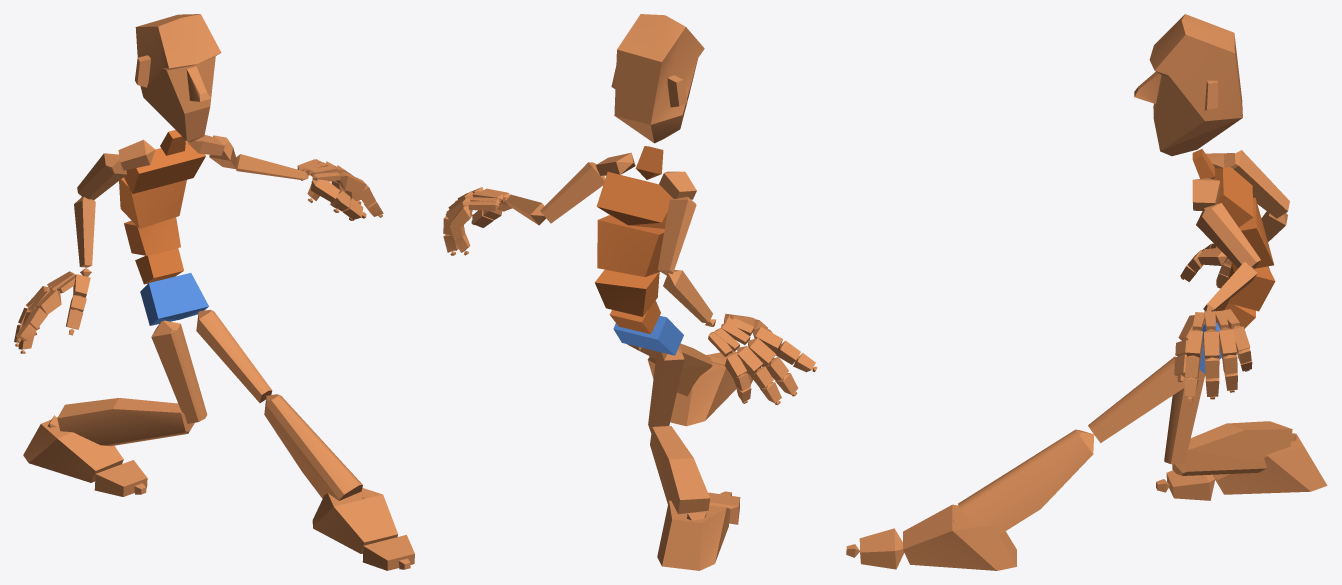
3 views of the same model, side by side, from view 1: azimuth 30°, elevation 25°; view 2: azimuth 150°, elevation 25°; view 3: azimuth 270°, elevation 25° (orthographic). The views are drawn at different scales.
Visible parts, largest first — view 1: BOPED_Head, BOPED_R_leg, BOPED_L_leg, BOPED_R_foot01, BOPED_R_foot, BOPED_R_legup, Bone01, BOPED_L_legup, Bone04, Bone05, Bone03, BOPED_R_arm_upper (+7 smaller); view 2: BOPED_Head, BOPED_R_foot, BOPED_R_leg, Bone04, Bone05, BOPED_R_foot01, Bone03, BOPED_R_legup, BOPED_R_arm_upper, BOPED_L_arm_upper, Bone01, BOPED_R_arm_fore (+7 smaller); view 3: BOPED_Head, BOPED_L_leg, BOPED_R_foot01, BOPED_R_leg, BOPED_R_foot, BOPED_L_legup, BOPED_L_arm_upper, BOPED_R_legup, Bone05, BOPED_R_arm_upper, BOPED_R_foot_toe04, BOPED_R_foot_toe01 (+4 smaller).
Part boxes in pixels (bbox=[...]): BOPED_Head: bbox=[135, 14, 221, 142]; BOPED_R_leg: bbox=[57, 398, 194, 446]; BOPED_L_leg: bbox=[264, 394, 362, 500]; BOPED_R_foot01: bbox=[312, 488, 398, 553]; BOPED_R_foot: bbox=[23, 417, 123, 482]; BOPED_R_legup: bbox=[151, 320, 207, 423]; Bone01: bbox=[140, 273, 208, 325]; BOPED_L_legup: bbox=[196, 309, 272, 402]; Bone04: bbox=[119, 177, 186, 228]; Bone05: bbox=[124, 141, 205, 193]; Bone03: bbox=[124, 217, 180, 255]; BOPED_R_arm_upper: bbox=[77, 153, 126, 200]; BOPED_Head: bbox=[611, 14, 704, 143]; BOPED_R_foot: bbox=[657, 500, 730, 570]; BOPED_R_leg: bbox=[650, 426, 710, 514]; Bone04: bbox=[597, 215, 664, 276]; Bone05: bbox=[596, 172, 673, 228]; BOPED_R_foot01: bbox=[670, 361, 736, 426]; Bone03: bbox=[594, 269, 659, 316]; BOPED_R_legup: bbox=[648, 345, 684, 432]; BOPED_R_arm_upper: bbox=[657, 196, 696, 275]; BOPED_L_arm_upper: bbox=[540, 162, 605, 223]; Bone01: bbox=[613, 316, 683, 355]; BOPED_R_arm_fore: bbox=[663, 270, 712, 322]; BOPED_Head: bbox=[1134, 14, 1242, 156]; BOPED_L_leg: bbox=[958, 429, 1094, 534]; BOPED_R_foot01: bbox=[903, 504, 1016, 570]; BOPED_R_leg: bbox=[1172, 421, 1292, 475]; BOPED_R_foot: bbox=[1212, 433, 1327, 494]; BOPED_L_legup: bbox=[1088, 356, 1189, 443]; BOPED_L_arm_upper: bbox=[1196, 203, 1260, 268]; BOPED_R_legup: bbox=[1164, 370, 1205, 464]; Bone05: bbox=[1214, 166, 1253, 227]; BOPED_R_arm_upper: bbox=[1230, 150, 1289, 218]; BOPED_R_foot_toe04: bbox=[859, 528, 904, 569]; BOPED_R_foot_toe01: bbox=[1166, 470, 1215, 500].
Size of the model in its own units: 130 by 160 by 139.
